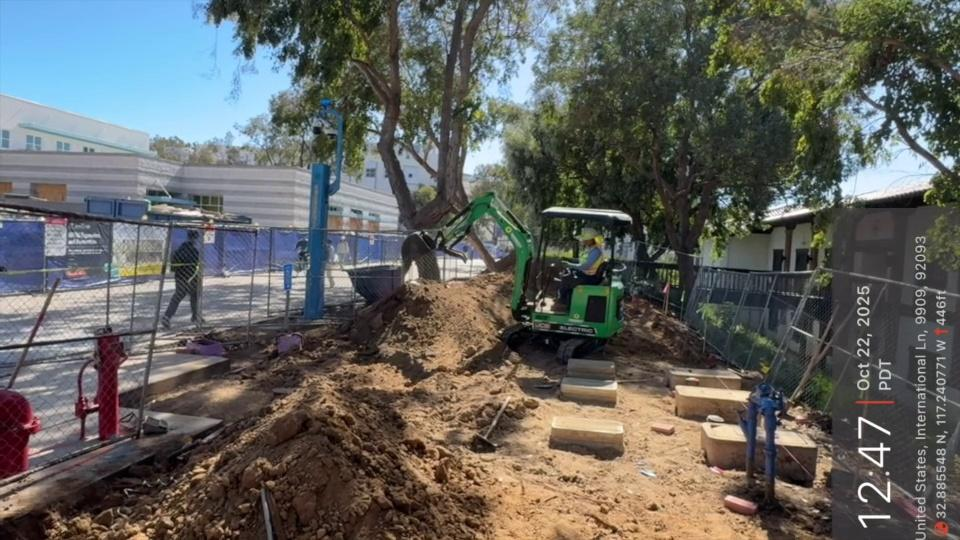Exacavator: (399, 189, 635, 364)
